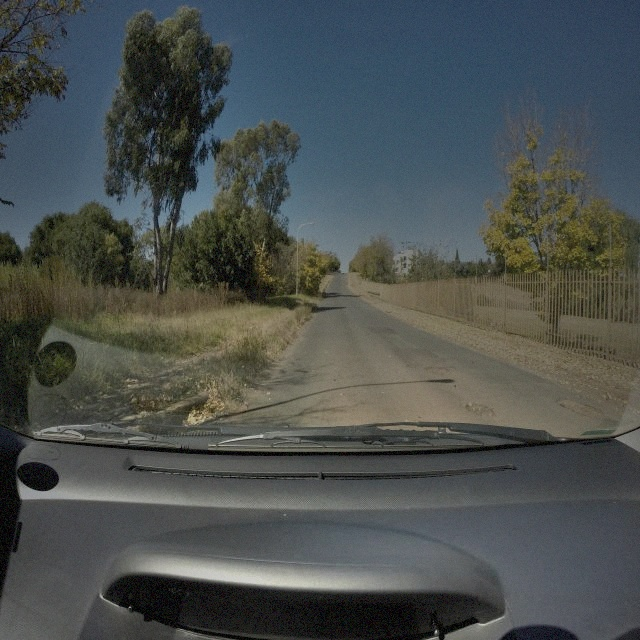pothole: (556, 396, 604, 422), (462, 402, 496, 422), (425, 364, 450, 379)
